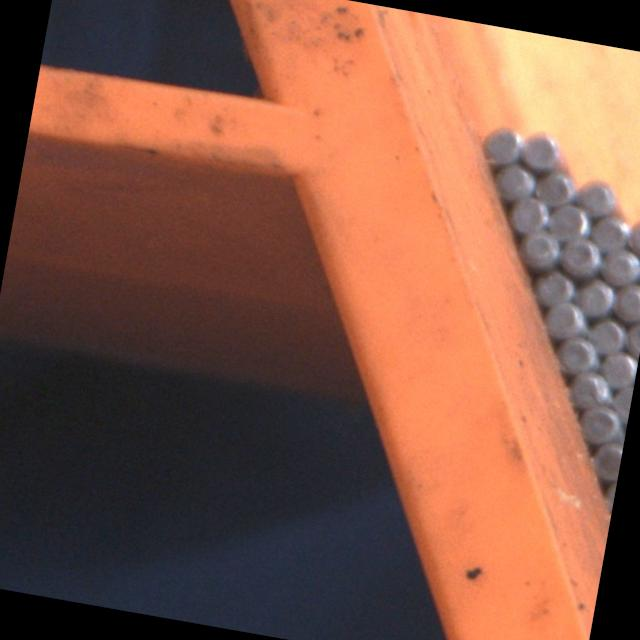tool: (556, 233, 602, 279), (578, 400, 624, 446), (518, 224, 563, 270), (548, 197, 594, 242), (542, 296, 588, 340), (556, 332, 600, 377), (479, 122, 524, 166), (596, 344, 640, 388), (584, 312, 628, 356), (572, 274, 616, 318), (506, 190, 550, 234), (532, 264, 576, 308), (566, 364, 610, 408), (532, 165, 576, 208), (598, 242, 640, 287), (586, 211, 629, 254), (518, 129, 560, 172), (493, 159, 535, 202), (575, 175, 618, 217), (588, 437, 624, 480), (610, 278, 640, 323), (608, 380, 634, 422), (623, 211, 640, 254)
